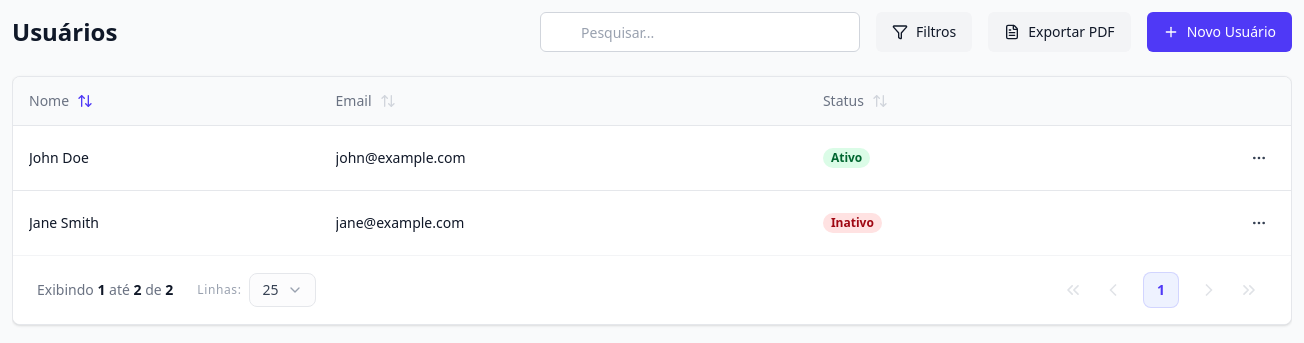
Test case: UserListPage › handles toggle status mutation error
Expected: the text "John Doe" is shown, [29, 148, 89, 166]
Click the button "Ativo": (847, 158) [823, 148, 870, 168]
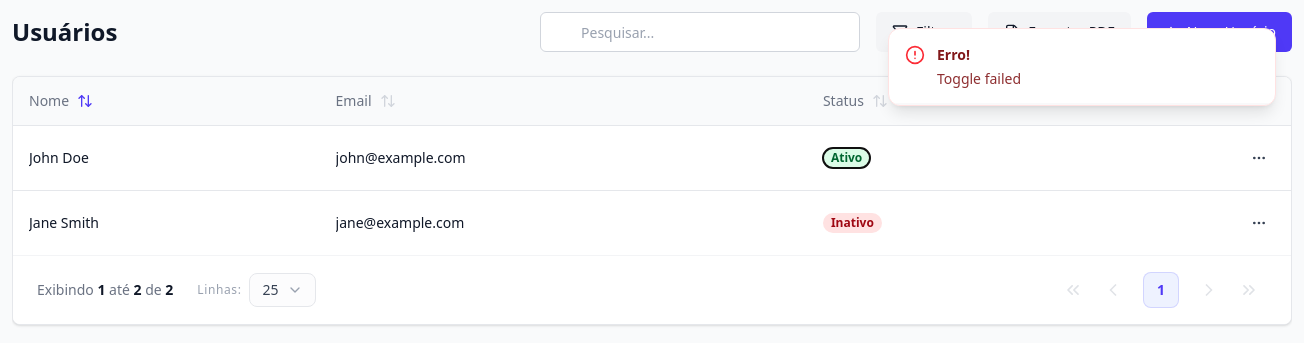
Result: the text "Toggle failed" is shown at [937, 69, 1021, 89]
